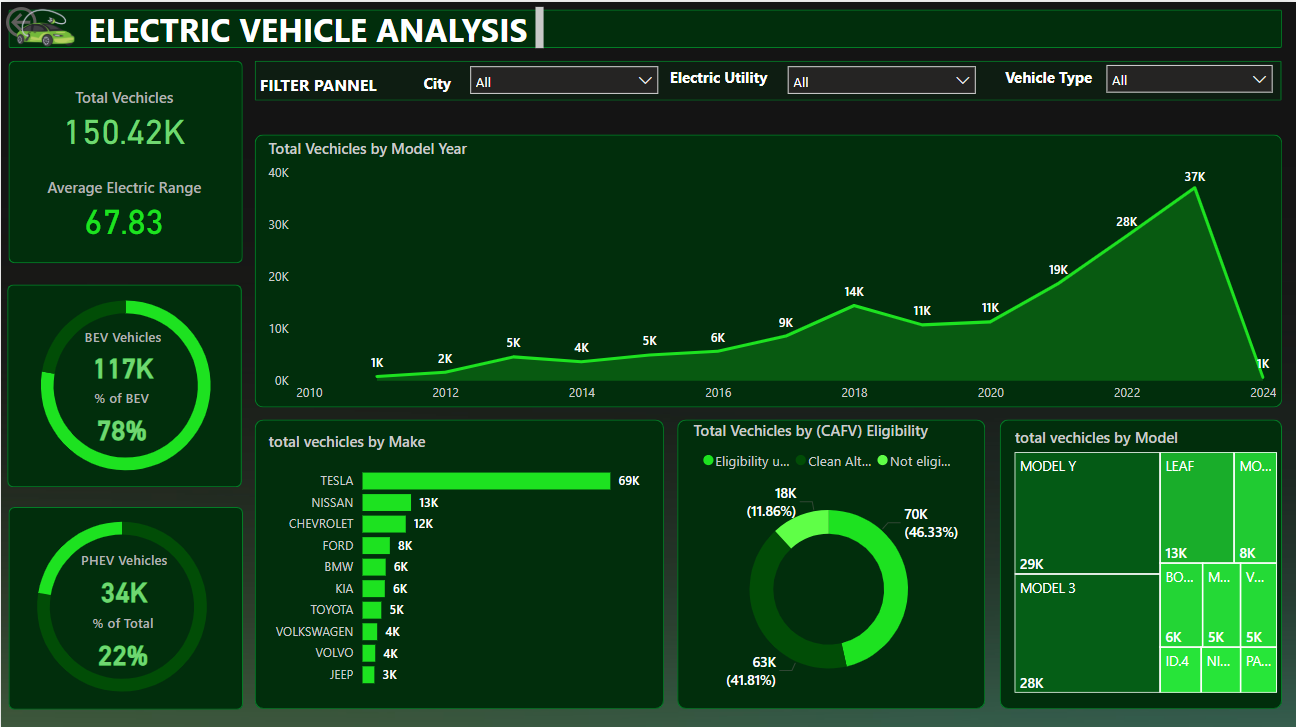

What the dashboard file says about the page in this screenshot:
{"tool":"powerbi","page":{"name":"Page 1","canvas":[1280,720],"ordinal":0},"visuals":[{"type":"shape","box":[7,7,1257.7,38],"z":0},{"type":"textbox","box":[81.3,0,459.3,51.5],"z":1000},{"type":"shape","box":[7,58.1,231.4,200],"z":2000},{"type":"card","title":"Total Vechicles","fields":{"Values":["Electric_Vehicle_Population_Data.total vechicles"]},"box":[15.7,84.5,211.1,62.7],"z":3000},{"type":"actionButton","box":[0,0,100,40],"z":4000},{"type":"card","title":"Average Electric Range","fields":{"Values":["Avg(Electric_Vehicle_Population_Data.Electric Range)"]},"box":[15.7,172.5,211.1,62.7],"z":5000},{"type":"shape","box":[6,278.7,231.6,200.3],"z":6000},{"type":"shape","box":[7.2,498.3,231.6,200.3],"z":7000},{"type":"donutChart","fields":{"Category":["Electric_Vehicle_Population_Data.Electric Vehicle Type"],"Y":["CountNonNull(Electric_Vehicle_Population_Data.Electric Utility)"]},"box":[13.3,269,219.6,219.6],"z":8000},{"type":"card","title":"BEV Vehicles","fields":{"Values":["Electric_Vehicle_Population_Data.BEV vehicles"]},"box":[15.1,321.1,211.3,63.1],"z":9000},{"type":"card","title":"% of BEV","fields":{"Values":["Electric_Vehicle_Population_Data.% of BEV"]},"box":[13.7,381.5,211.3,63.1],"z":10000},{"type":"donutChart","fields":{"Category":["Electric_Vehicle_Population_Data.Electric Vehicle Type"],"Y":["CountNonNull(Electric_Vehicle_Population_Data.Electric Utility)"]},"box":[9.6,487.1,219.6,219.6],"z":11000},{"type":"card","title":"PHEV Vehicles","fields":{"Values":["Electric_Vehicle_Population_Data.PHEV vehicles"]},"box":[16.5,542,211.3,63.1],"z":12000},{"type":"card","title":"% of Total","fields":{"Values":["Electric_Vehicle_Population_Data.% of PHEV"]},"box":[15.1,603.8,211.3,63.1],"z":13000},{"type":"shape","box":[250.7,57.7,1014.1,39.4],"z":14000},{"type":"shape","box":[250.6,131.4,1014.7,269.6],"z":15000},{"type":"areaChart","title":"Total Vechicles by Model Year","fields":{"Category":["Electric_Vehicle_Population_Data.Model Year"],"Y":["Electric_Vehicle_Population_Data.total vechicles"]},"box":[258.8,134.1,1005.3,269.6],"z":16000},{"type":"shape","box":[250.7,412.7,404.2,285.9],"z":18000},{"type":"barChart","fields":{"Category":["Electric_Vehicle_Population_Data.Make"],"Y":["Electric_Vehicle_Population_Data.total vechicles"]},"box":[259.2,423.9,377.5,263.4],"z":19000},{"type":"shape","box":[667.6,412.7,304.2,285.9],"z":20000},{"type":"donutChart","title":"Total Vechicles by (CAFV) Eligibility","fields":{"Category":["Electric_Vehicle_Population_Data.Clean Alternative Fuel Vehicle (CAFV) Eligibility"],"Y":["Electric_Vehicle_Population_Data.total vechicles"]},"box":[678.9,412.7,277.5,285.9],"z":21000},{"type":"shape","box":[985.9,412.7,278.9,285.9],"z":22000},{"type":"treemap","fields":{"Group":["Electric_Vehicle_Population_Data.Model"],"Values":["Electric_Vehicle_Population_Data.total vechicles"]},"box":[995.8,419.7,269,267.6],"z":23000},{"type":"textbox","box":[250.6,65,143.6,39.3],"z":24000},{"type":"slicer","fields":{"Values":["Electric_Vehicle_Population_Data.City"]},"box":[766.8,52.8,205.9,39.3],"z":25000},{"type":"textbox","box":[411.9,65,71.8,37.9],"z":26000},{"type":"textbox","box":[655.7,59.6,147.7,37.9],"z":27000},{"type":"slicer","fields":{"Values":["Electric_Vehicle_Population_Data.City"]},"box":[452.5,52.8,205.9,39.3],"z":28000},{"type":"textbox","box":[982.2,59.6,147.7,37.9],"z":29000},{"type":"slicer","fields":{"Values":["Electric_Vehicle_Population_Data.City"]},"box":[1081.1,51.5,184.3,39.3],"z":30000},{"type":"image","box":[4.1,0,81.3,51.5],"z":31000}]}

Visuals, with their boxes in screenshot pixels (x1, y1, x2, y2), scaled from the page's 1280x720 canvas onto the 1296x727 screenshot:
shape: pyautogui.locateOnScreen(7, 7, 1281, 45)
textbox: pyautogui.locateOnScreen(82, 0, 547, 52)
shape: pyautogui.locateOnScreen(7, 59, 241, 261)
"Total Vechicles" card: pyautogui.locateOnScreen(16, 85, 230, 149)
actionButton: pyautogui.locateOnScreen(0, 0, 101, 40)
"Average Electric Range" card: pyautogui.locateOnScreen(16, 174, 230, 237)
shape: pyautogui.locateOnScreen(6, 281, 241, 484)
shape: pyautogui.locateOnScreen(7, 503, 242, 705)
donutChart - Electric_Vehicle_Population_Data.Electric Vehicle Type x CountNonNull(Electric_Vehicle_Population_Data.Electric Utility): pyautogui.locateOnScreen(13, 272, 236, 493)
"BEV Vehicles" card: pyautogui.locateOnScreen(15, 324, 229, 388)
"% of BEV" card: pyautogui.locateOnScreen(14, 385, 228, 449)
donutChart - Electric_Vehicle_Population_Data.Electric Vehicle Type x CountNonNull(Electric_Vehicle_Population_Data.Electric Utility): pyautogui.locateOnScreen(10, 492, 232, 714)
"PHEV Vehicles" card: pyautogui.locateOnScreen(17, 547, 231, 611)
"% of Total" card: pyautogui.locateOnScreen(15, 610, 229, 673)
shape: pyautogui.locateOnScreen(254, 58, 1281, 98)
shape: pyautogui.locateOnScreen(254, 133, 1281, 405)
"Total Vechicles by Model Year" areaChart: pyautogui.locateOnScreen(262, 135, 1280, 408)
shape: pyautogui.locateOnScreen(254, 417, 663, 705)
barChart - Electric_Vehicle_Population_Data.Make x Electric_Vehicle_Population_Data.total vechicles: pyautogui.locateOnScreen(262, 428, 645, 694)
shape: pyautogui.locateOnScreen(676, 417, 984, 705)
"Total Vechicles by (CAFV) Eligibility" donutChart: pyautogui.locateOnScreen(687, 417, 968, 705)
shape: pyautogui.locateOnScreen(998, 417, 1281, 705)
treemap - Electric_Vehicle_Population_Data.Model x Electric_Vehicle_Population_Data.total vechicles: pyautogui.locateOnScreen(1008, 424, 1281, 694)
textbox: pyautogui.locateOnScreen(254, 66, 399, 105)
slicer - Electric_Vehicle_Population_Data.City: pyautogui.locateOnScreen(776, 53, 985, 93)
textbox: pyautogui.locateOnScreen(417, 66, 490, 104)
textbox: pyautogui.locateOnScreen(664, 60, 813, 98)
slicer - Electric_Vehicle_Population_Data.City: pyautogui.locateOnScreen(458, 53, 667, 93)
textbox: pyautogui.locateOnScreen(994, 60, 1144, 98)
slicer - Electric_Vehicle_Population_Data.City: pyautogui.locateOnScreen(1095, 52, 1281, 92)
image: pyautogui.locateOnScreen(4, 0, 86, 52)
